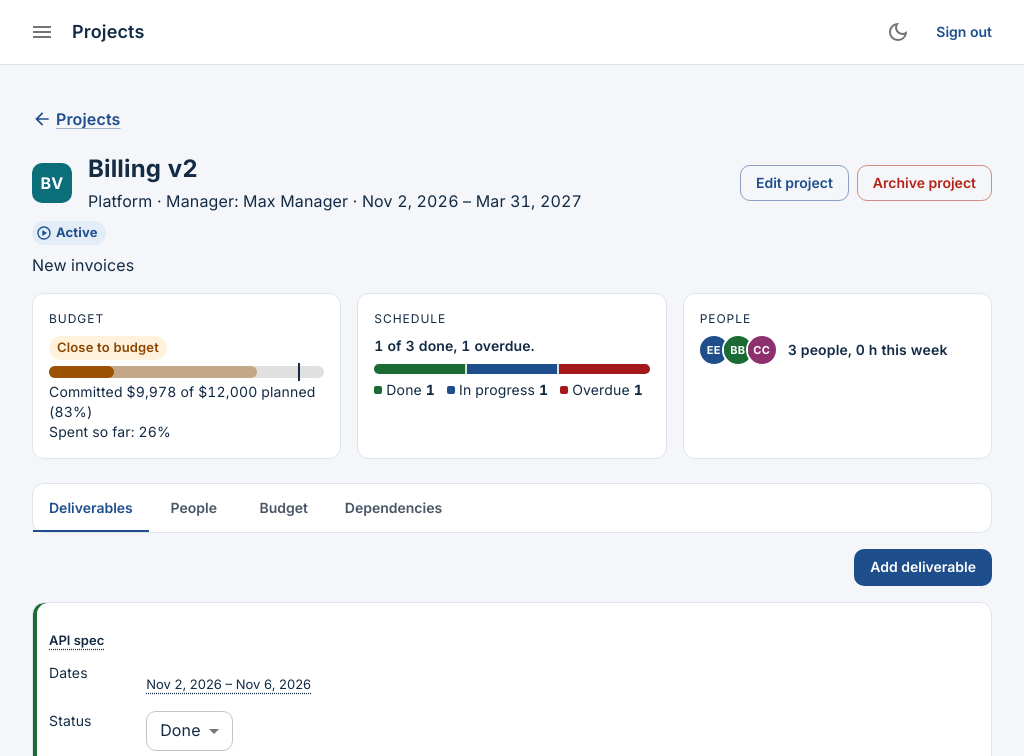
Dependencies tab › on a phone it is a list, not a chart
This screenshot has width=1024, height=756.
Click the tab "Dependencies" at [393, 508], box [329,484,458,532]
(page scrolled)
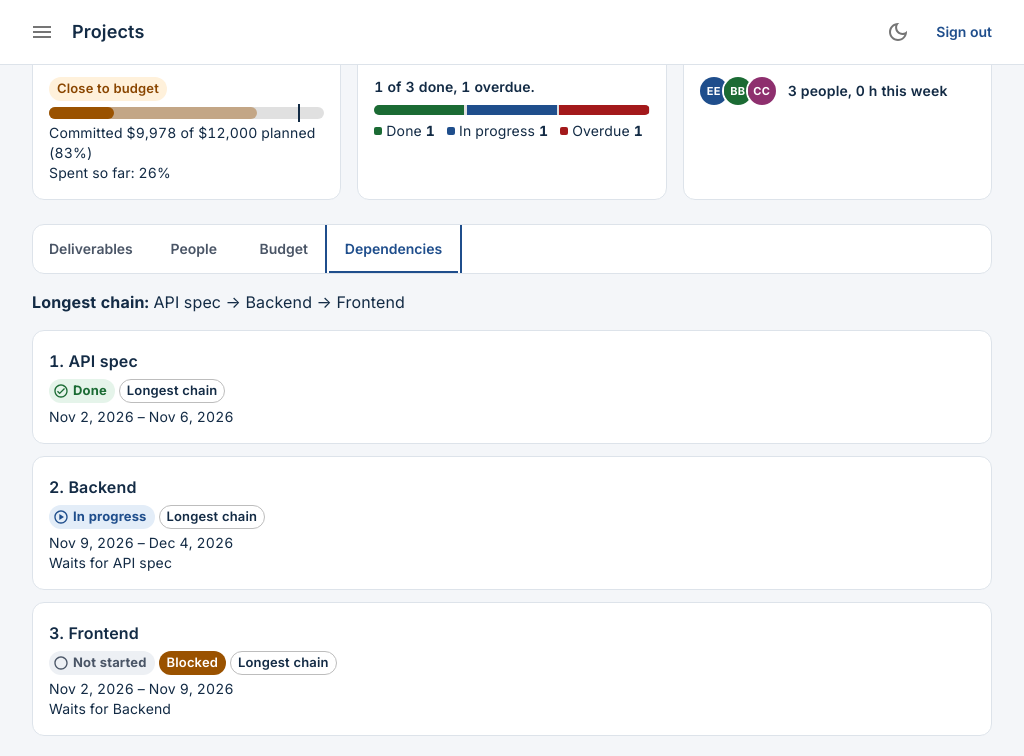
Expected: the text "Waits for API spec" is shown, [49,554,172,571]
